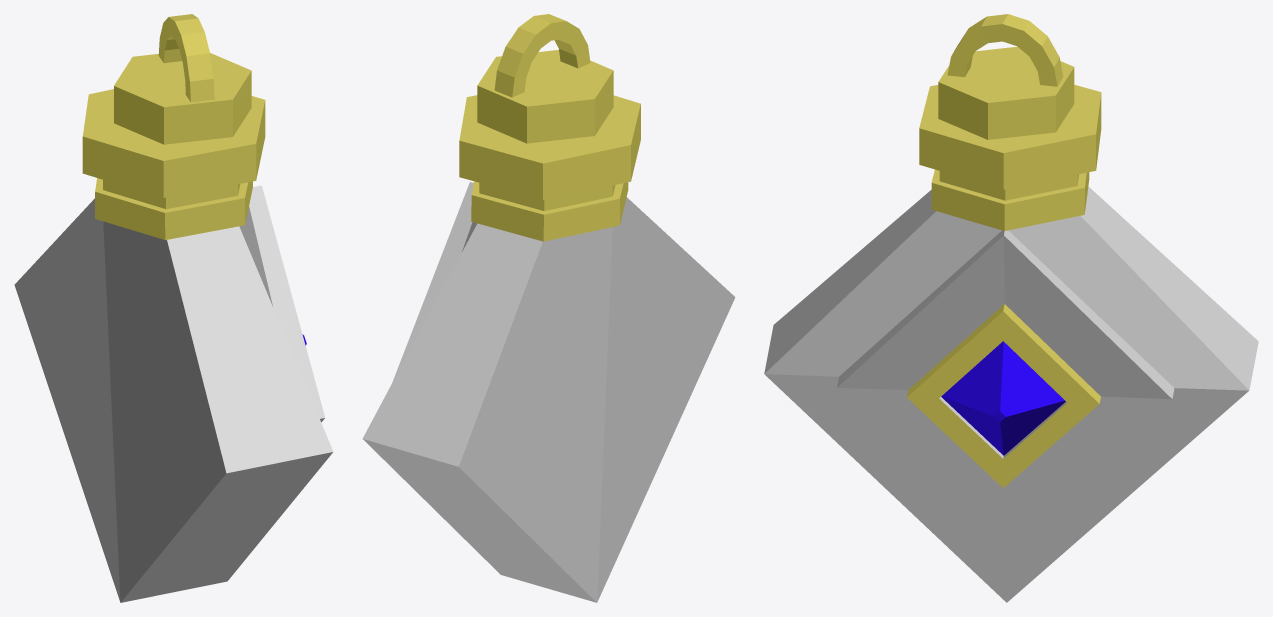
The model's file is BOTTEL.fbx.
3 views of the same model, side by side, from view 1: azimuth 30°, elevation 25°; view 2: azimuth 150°, elevation 25°; view 3: azimuth 270°, elevation 25° (orthographic).
Parts seen in each view (by area): view 1: frasco triangular; view 2: frasco triangular; view 3: frasco triangular.
Part boxes in pixels (x1,y1,x2,y2): frasco triangular: [14, 14, 333, 602]; frasco triangular: [362, 14, 735, 602]; frasco triangular: [764, 14, 1258, 602].
Bounding box in the file's own units: 217 × 560 × 445.
